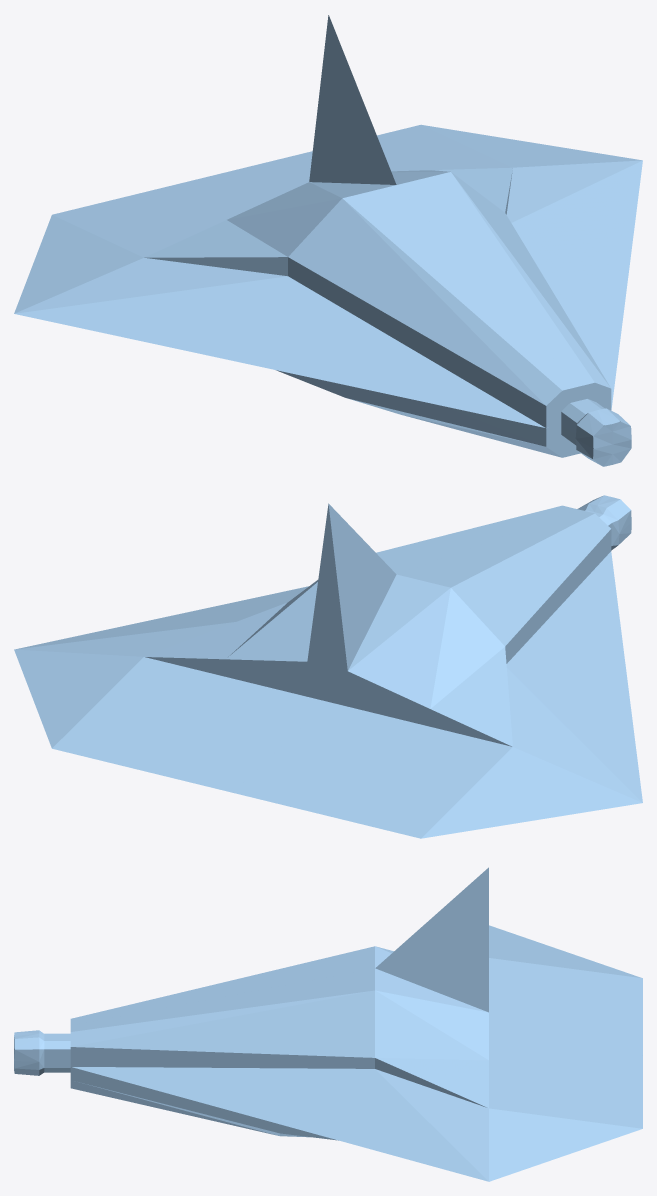
Rendered from player.obj.
3 views of the same model, one above another, from view 1: azimuth 30°, elevation 25°; view 2: azimuth 150°, elevation 25°; view 3: azimuth 270°, elevation 25° (orthographic). The views are drawn at different scales.
Parts seen in each view (by area): view 1: Cube; view 2: Cube; view 3: Cube.
Boxes of the visible parts, box(x1,y1,x2,y2) form: Cube: box(14, 15, 642, 466); Cube: box(14, 495, 642, 838); Cube: box(14, 867, 642, 1181).
Bounding box in the file's own units: 6.36 × 2.85 × 6.59.
